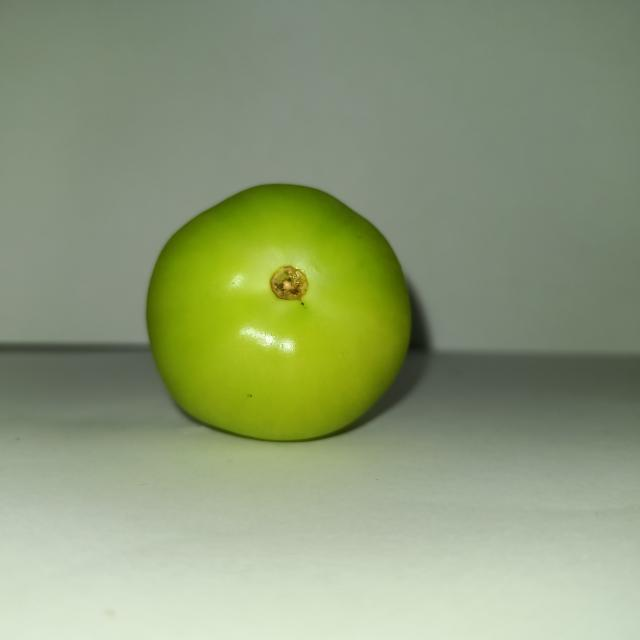Red: (144, 181, 413, 442)
